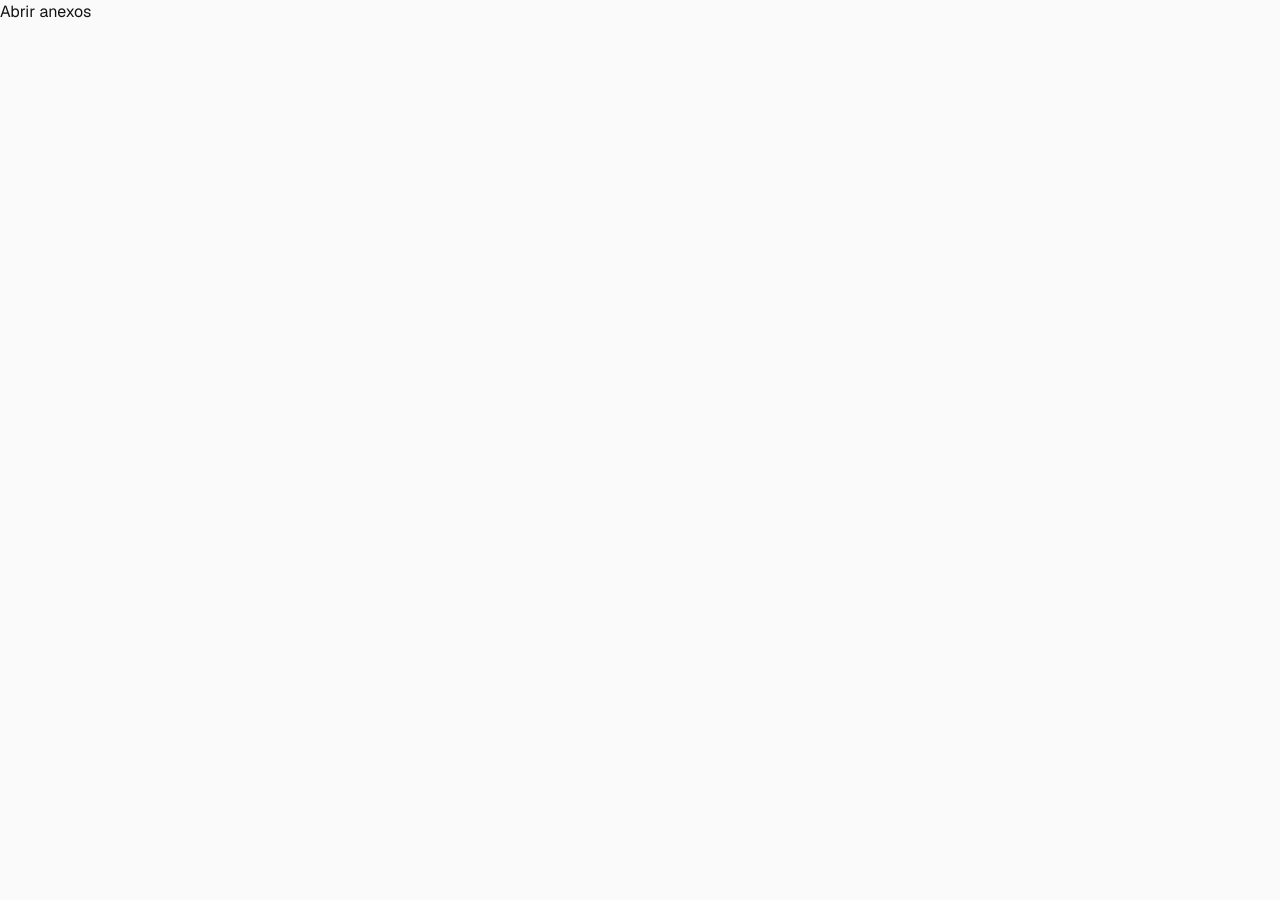
AttachMenu › lista as cinco opções ao abrir
The image size is (1280, 900).
Click the button "Abrir anexos". click: coordinates (46, 12)
box: [0, 0, 91, 24]
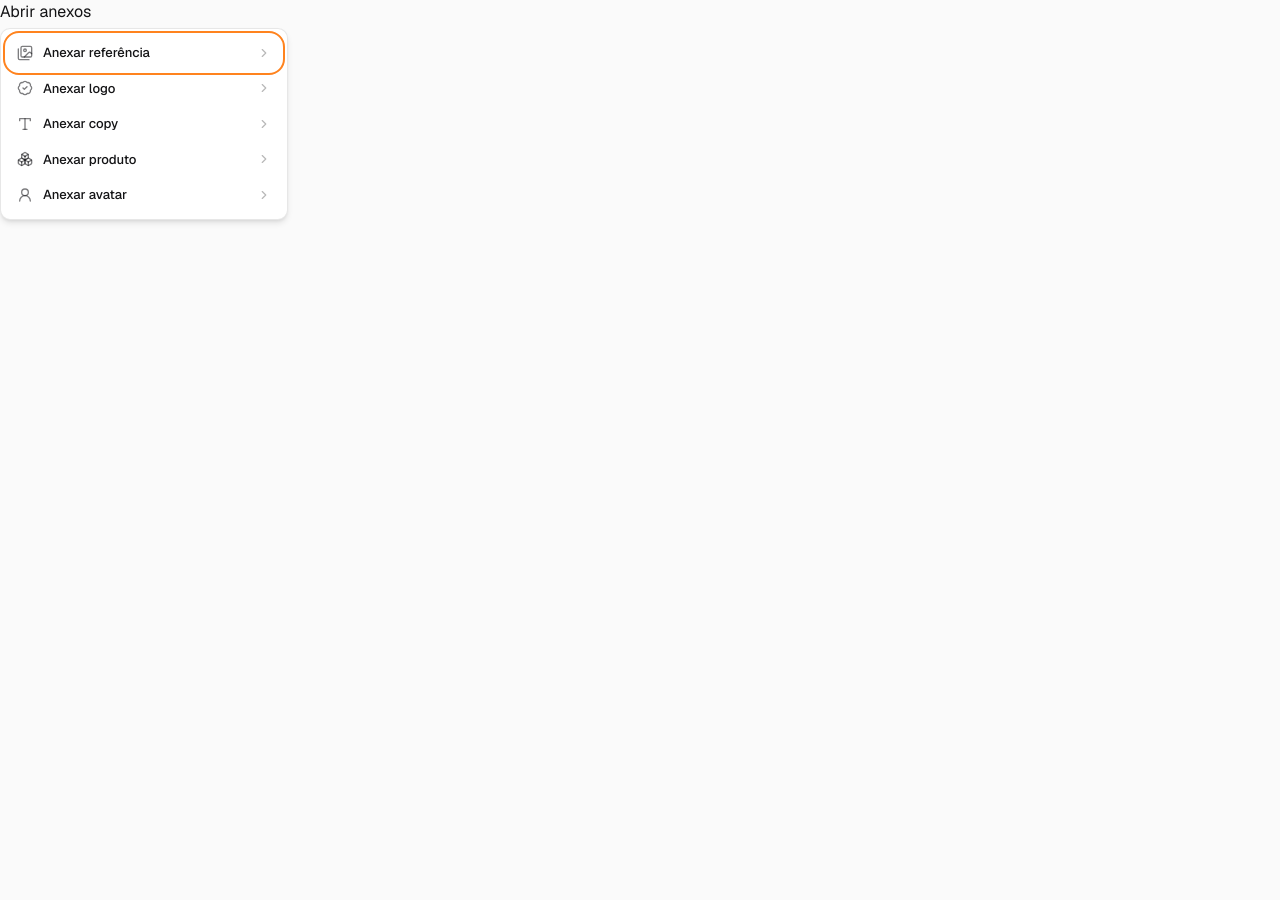
Expected: the button "Anexar referência" is shown, [7, 35, 281, 70]
Expected: the button "Anexar logo" is shown, [7, 70, 281, 106]
Expected: the button "Anexar copy" is shown, [7, 106, 281, 142]
